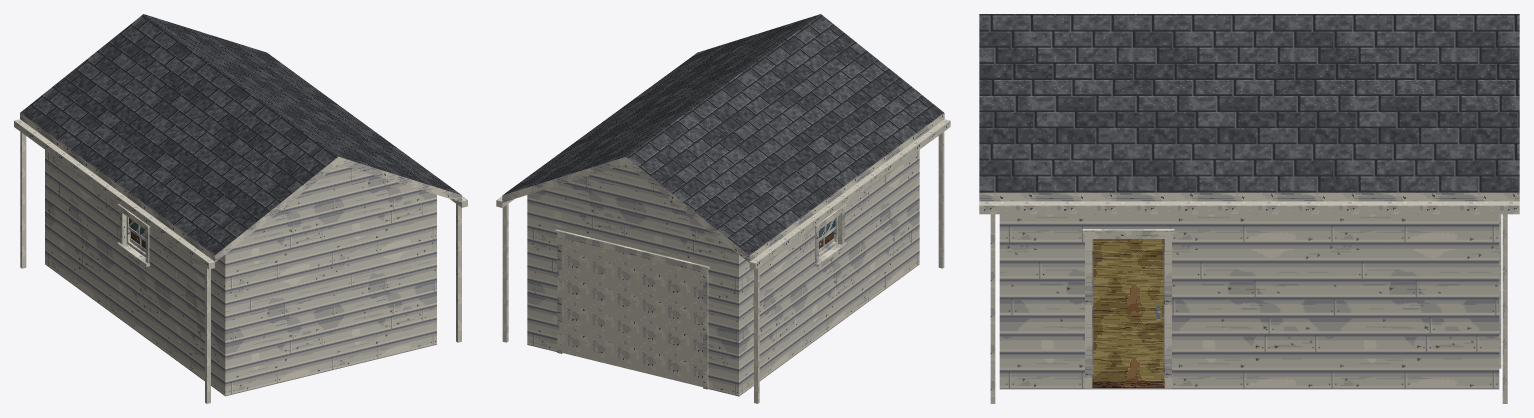
File: RES_Ext_Garage_Attached_4x6.obj
The picture shows the model from 3 angles, left to right: view 1: azimuth 30°, elevation 25°; view 2: azimuth 150°, elevation 25°; view 3: azimuth 270°, elevation 25°; orthographic projection. The views are drawn at different scales.
Parts seen in each view (by area): view 1: RES_Ext_Garage_Attached_4x6_Exterior_M_Arch_SidingWhite, RES_Ext_Garage_Attached_4x6_Exterior_M_Arch_RoofShinglesDarkGray, RES_Ext_Garage_Attached_4x6_Exterior_M_Town_PaintWhite, RES_Ext_Garage_Attached_4x6_Exterior_M_Arch_TrimPainted; view 2: RES_Ext_Garage_Attached_4x6_Exterior_M_Arch_RoofShinglesDarkGray, RES_Ext_Garage_Attached_4x6_Exterior_M_Arch_SidingWhite, INT_GarageDoor_Garage_M_Town_PaintWhite, RES_Ext_Garage_Attached_4x6_Exterior_M_Arch_TrimPainted, RES_Ext_Garage_Attached_4x6_Exterior_M_Town_PaintWhite; view 3: RES_Ext_Garage_Attached_4x6_Exterior_M_Arch_RoofShinglesDarkGray, RES_Ext_Garage_Attached_4x6_Exterior_M_Arch_SidingWhite, INT_Door_Side_M_Furn_WoodPainted, RES_Ext_Garage_Attached_4x6_Exterior_M_Town_PaintWhite, RES_Ext_Garage_Attached_4x6_Exterior_M_Arch_TrimPainted, RES_Ext_Garage_Attached_4x6_Interior_M_Int_BasementConcrete, RES_Ext_Garage_Attached_4x6_Exterior_M_Furn_WoodDark.
Part boxes in pixels (x1,y1,x2,y2): RES_Ext_Garage_Attached_4x6_Exterior_M_Arch_SidingWhite: [45, 150, 436, 396]; RES_Ext_Garage_Attached_4x6_Exterior_M_Arch_RoofShinglesDarkGray: [20, 14, 460, 254]; RES_Ext_Garage_Attached_4x6_Exterior_M_Town_PaintWhite: [14, 119, 467, 403]; RES_Ext_Garage_Attached_4x6_Exterior_M_Arch_TrimPainted: [20, 113, 461, 266]; RES_Ext_Garage_Attached_4x6_Exterior_M_Arch_RoofShinglesDarkGray: [503, 14, 943, 255]; RES_Ext_Garage_Attached_4x6_Exterior_M_Arch_SidingWhite: [527, 150, 919, 396]; INT_GarageDoor_Garage_M_Town_PaintWhite: [562, 238, 702, 386]; RES_Ext_Garage_Attached_4x6_Exterior_M_Arch_TrimPainted: [502, 113, 944, 389]; RES_Ext_Garage_Attached_4x6_Exterior_M_Town_PaintWhite: [496, 119, 950, 403]; RES_Ext_Garage_Attached_4x6_Exterior_M_Arch_RoofShinglesDarkGray: [979, 14, 1519, 192]; RES_Ext_Garage_Attached_4x6_Exterior_M_Arch_SidingWhite: [999, 214, 1499, 389]; INT_Door_Side_M_Furn_WoodPainted: [1093, 239, 1163, 381]; RES_Ext_Garage_Attached_4x6_Exterior_M_Town_PaintWhite: [979, 201, 1519, 403]; RES_Ext_Garage_Attached_4x6_Exterior_M_Arch_TrimPainted: [979, 192, 1519, 388]; RES_Ext_Garage_Attached_4x6_Interior_M_Int_BasementConcrete: [1092, 251, 1164, 380]; RES_Ext_Garage_Attached_4x6_Exterior_M_Furn_WoodDark: [1092, 380, 1164, 387].
Size of the model in its own units: 5.14 by 4.16 by 6.7.
15 materials, 14 textured.
